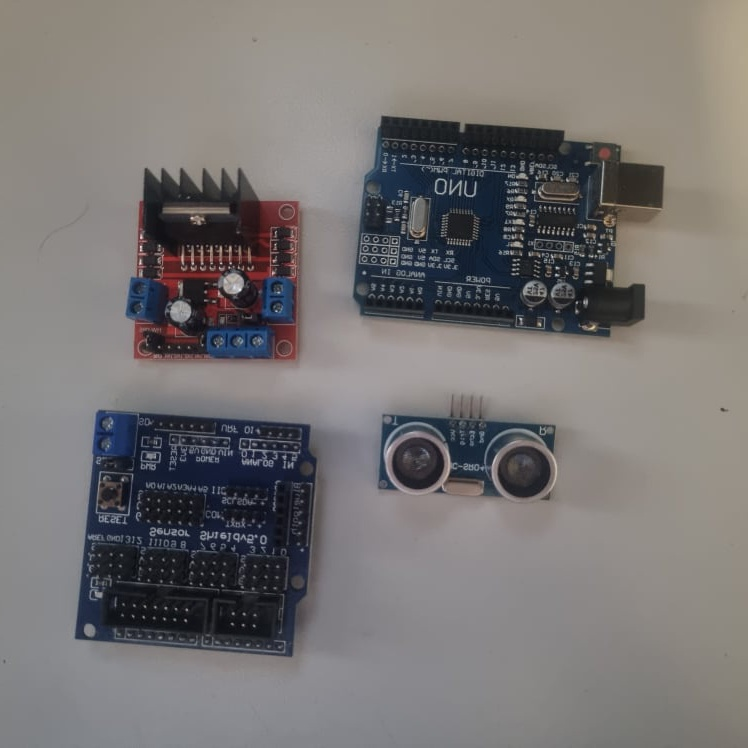5V EXPANSION: (74, 410, 315, 659)
MOTOR: (123, 167, 300, 362)
SENSOR: (371, 410, 560, 500)
UNO R3: (353, 116, 666, 337)
